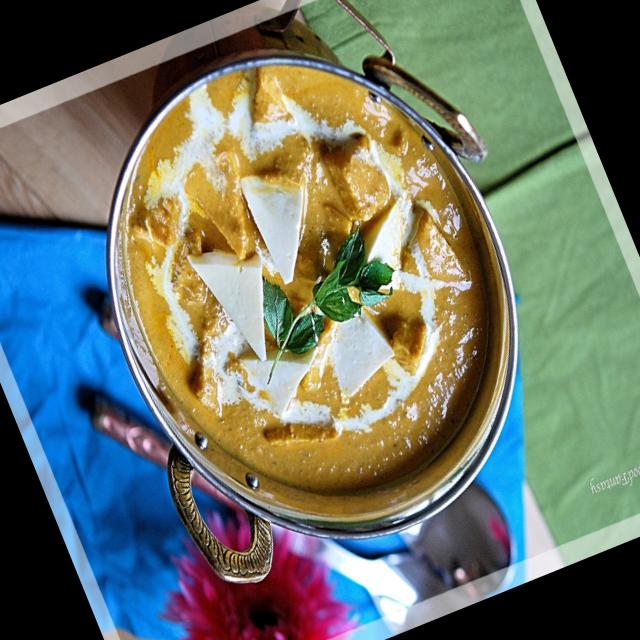ShahiPaneer: (63, 7, 552, 553)
